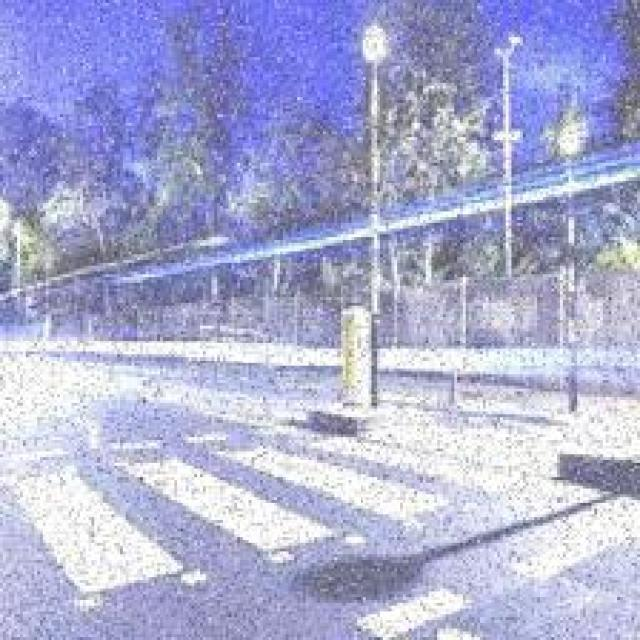crosswalk: (24, 365, 538, 620)
